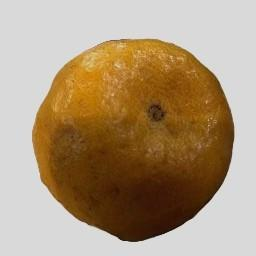Unripe: (35, 37, 235, 241)
